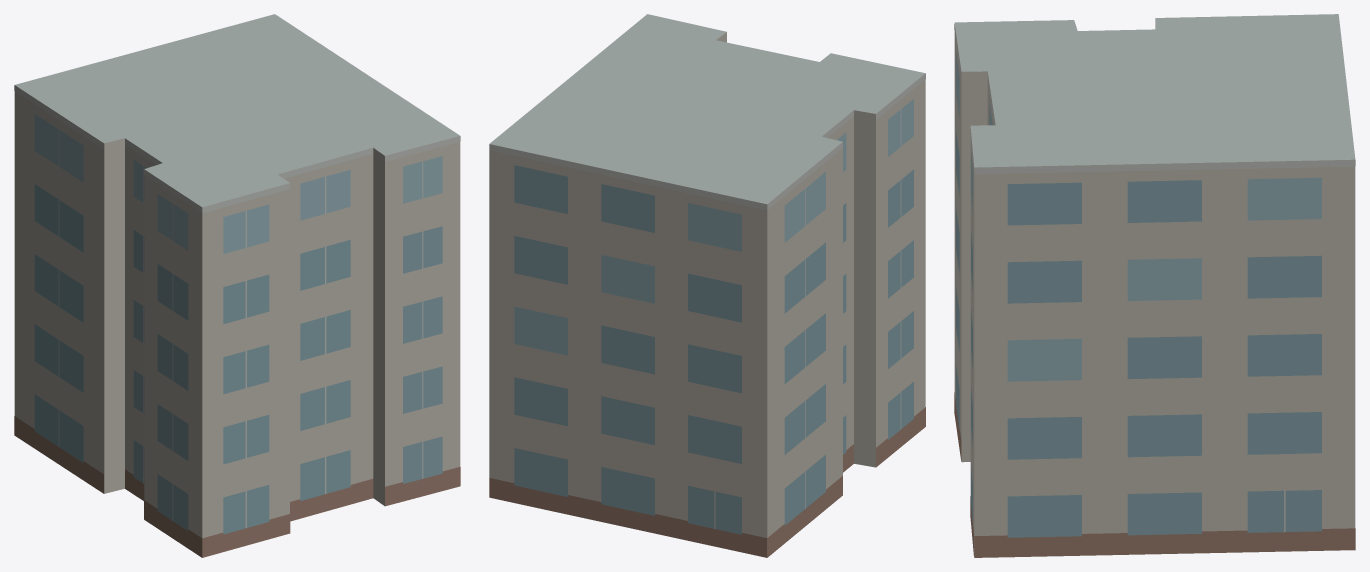
The model's file is survey-upis-32523181.glb.
The picture shows the model from 3 angles, left to right: view 1: azimuth 30°, elevation 25°; view 2: azimuth 150°, elevation 25°; view 3: azimuth 270°, elevation 25°; orthographic projection. The views are drawn at different scales.
Visible parts, largest first — view 1: survey-upis-32523181.tmp; view 2: survey-upis-32523181.tmp; view 3: survey-upis-32523181.tmp.
Part boxes in pixels (x1,y1,x2,y2): survey-upis-32523181.tmp: (14, 14, 460, 557); survey-upis-32523181.tmp: (489, 14, 925, 557); survey-upis-32523181.tmp: (954, 14, 1355, 557).
Size of the model in its own units: 11.98 by 14.2 by 13.23.
